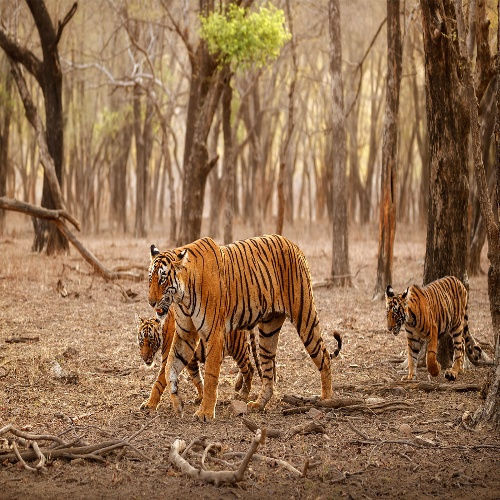tiger: (110, 230, 475, 432)
